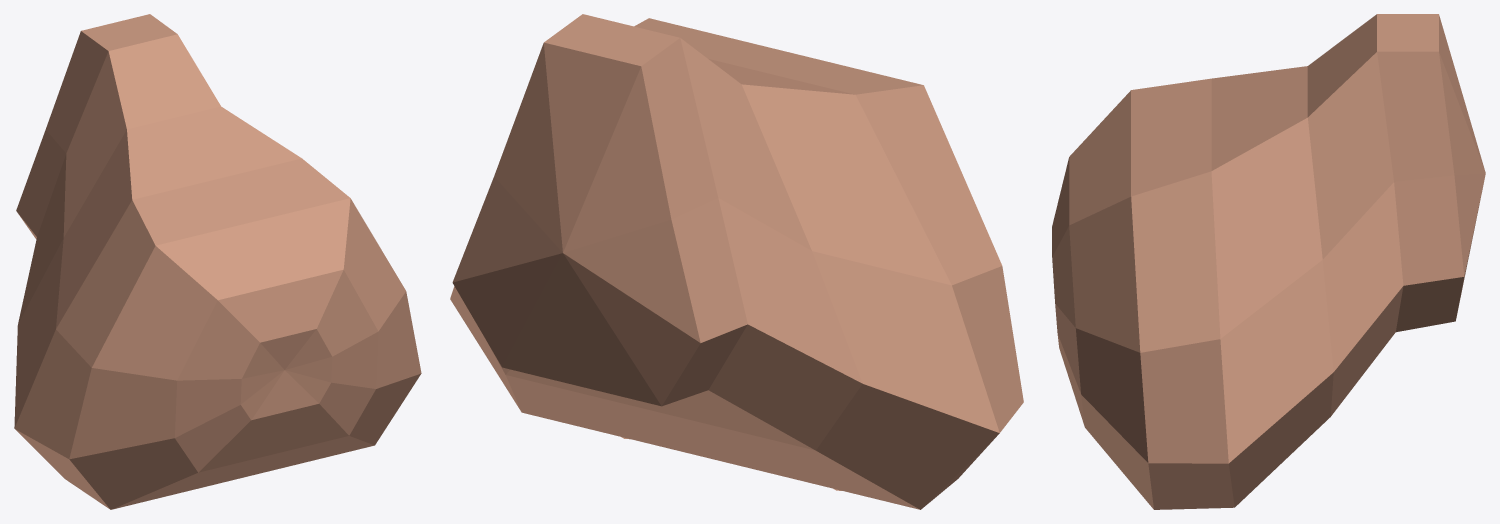
The model's file is nose_gn_bulb3.glb.
3 renders of one model, left to right at view 1: azimuth 30°, elevation 25°; view 2: azimuth 150°, elevation 25°; view 3: azimuth 270°, elevation 25°, orthographic. The views are drawn at different scales.
Visible parts, largest first — view 1: Snout; view 2: Snout; view 3: Snout.
Part boxes in pixels (bbox=[...]): Snout: bbox=[14, 14, 421, 509]; Snout: bbox=[450, 14, 1023, 509]; Snout: bbox=[1052, 14, 1485, 509].
Bounding box in the file's own units: 0.062 × 0.0551 × 0.0534.
Materials: 1 (1 with a texture image).
